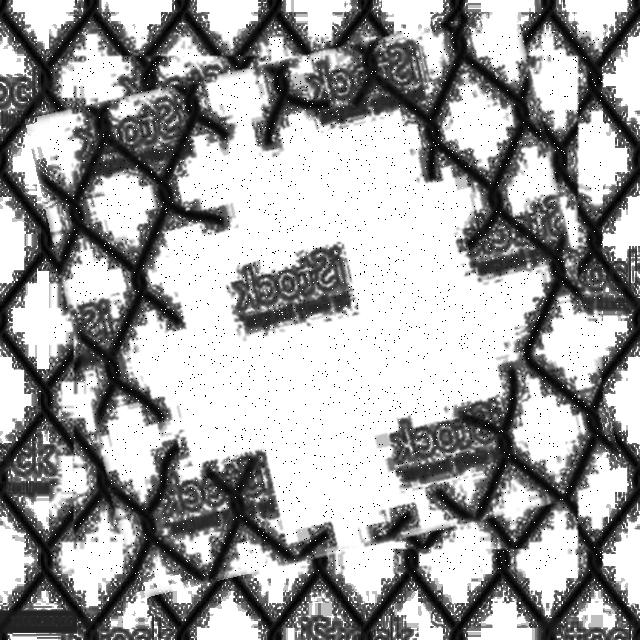anomaly-fence: (50, 31, 602, 574)
